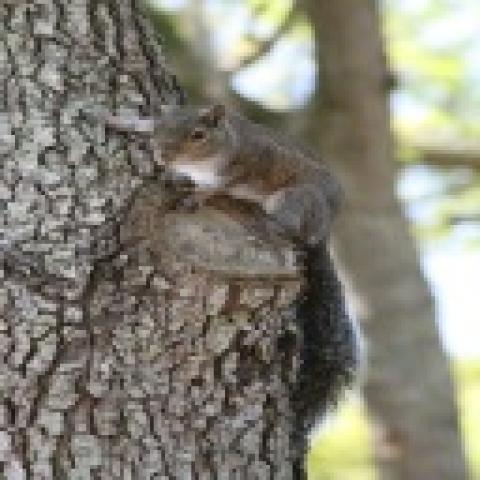small_animal: (154, 98, 359, 358)
